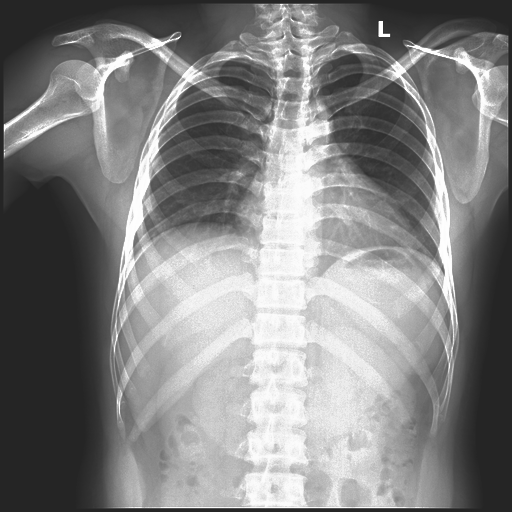Nodule/Mass: (232, 197, 418, 255)
